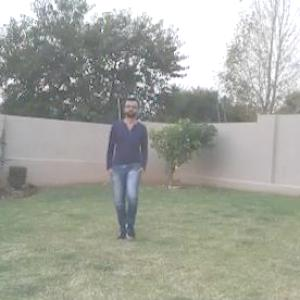follow: (100, 92, 151, 241)
